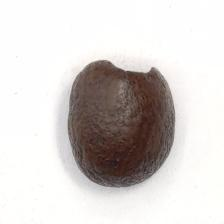NG: (90, 58, 158, 80)
